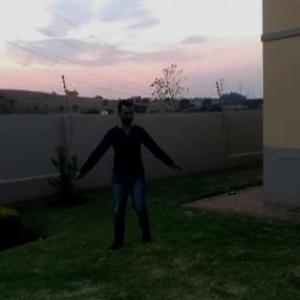land: (74, 91, 182, 251)
